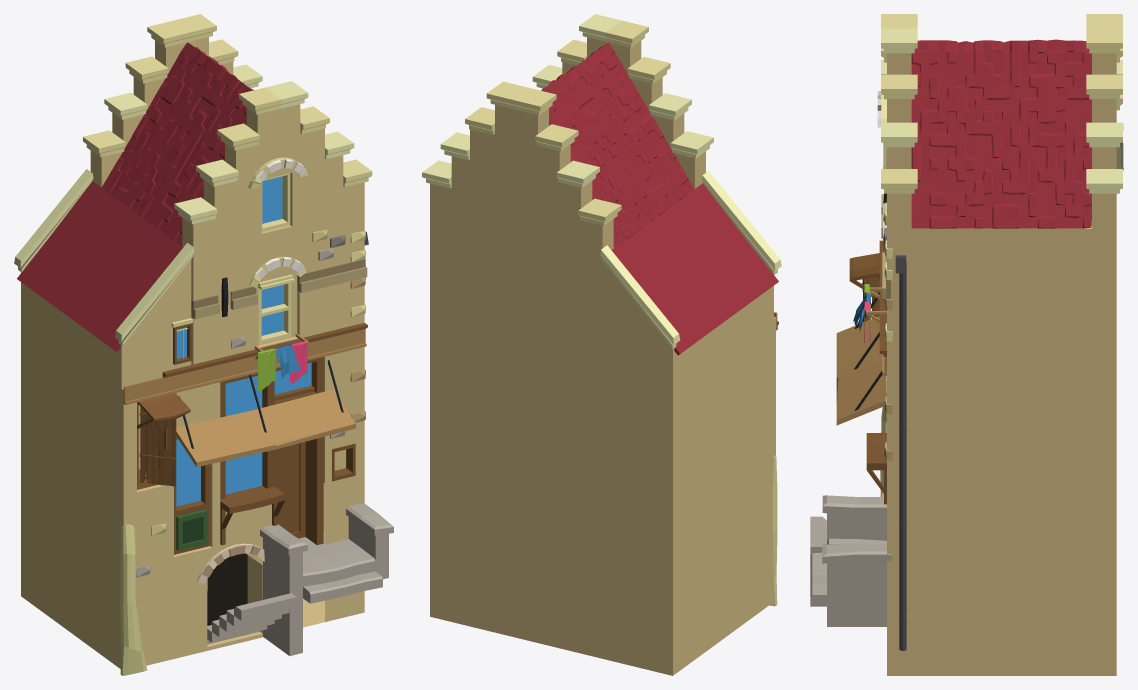
Rendered from EA_TenementHouse_01c.fbx.
The picture shows the model from 3 angles, left to right: view 1: azimuth 30°, elevation 25°; view 2: azimuth 150°, elevation 25°; view 3: azimuth 270°, elevation 25°; orthographic projection. The views are drawn at different scales.
Visible parts, largest first — view 1: EA_TenementHouse_01c_LOD0; view 2: EA_TenementHouse_01c_LOD0; view 3: EA_TenementHouse_01c_LOD0.
Boxes of the visible parts, x1=… form: EA_TenementHouse_01c_LOD0: x1=14, y1=14, x2=393, y2=675; EA_TenementHouse_01c_LOD0: x1=422, y1=14, x2=781, y2=675; EA_TenementHouse_01c_LOD0: x1=810, y1=14, x2=1123, y2=675.
Size of what is drawn, in the model's own units: 6.4 by 12.96 by 6.07.
